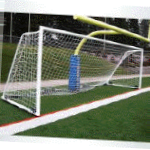goals: (1, 25, 146, 116)
